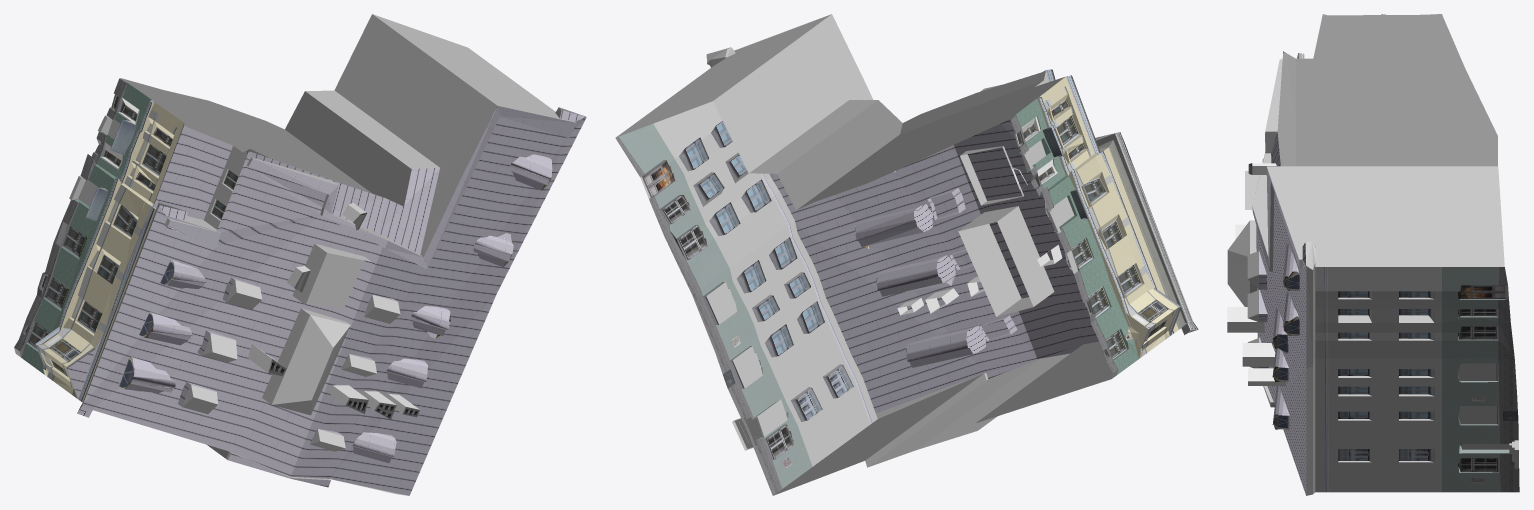
The model's file is Pikk_42-origo.obj.
3 renders of one model, left to right at view 1: azimuth 30°, elevation 25°; view 2: azimuth 150°, elevation 25°; view 3: azimuth 270°, elevation 25°, orthographic. The views are drawn at different scales.
Visible parts, largest first — view 1: Pikk_42; view 2: Pikk_42; view 3: Pikk_42.
Part boxes in pixels (box(x1,y1,x2,y2)): Pikk_42: box(14, 14, 586, 495); Pikk_42: box(615, 14, 1198, 495); Pikk_42: box(1227, 14, 1519, 495).
Size of the model in its own units: 40.06 by 31 by 21.36.
